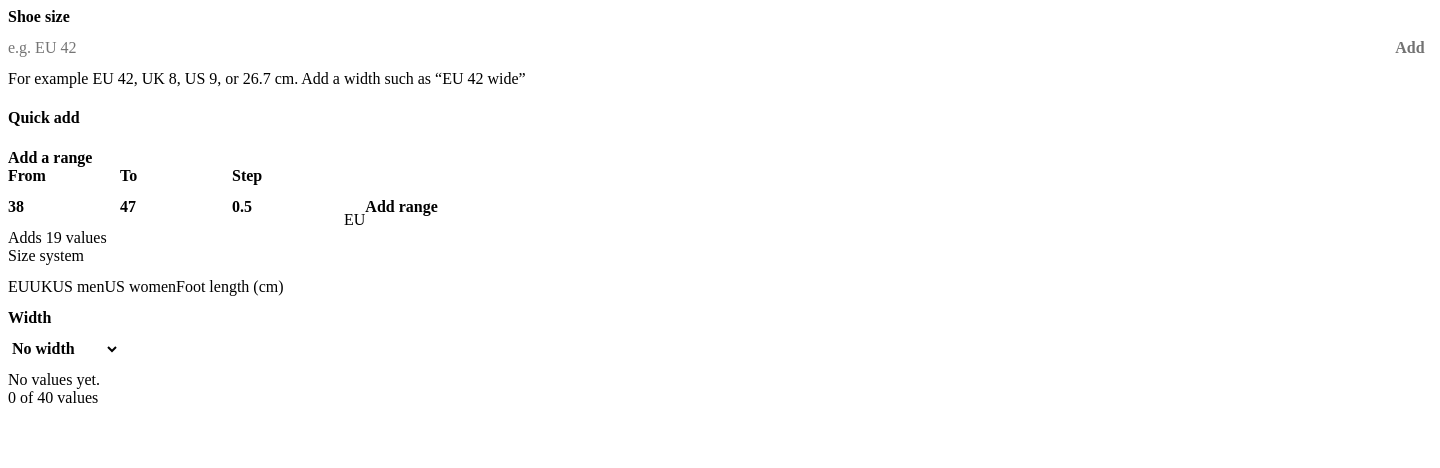
Test case: shoe › system switch: bare numbers are read in the chosen system, and converted sizes show as help
Later steps or results of the test are not shown.
Type "42" into the field labelled "Shoe size".
click(698, 48); type("42")  # box [8,26,1388,70]
Then press Enter
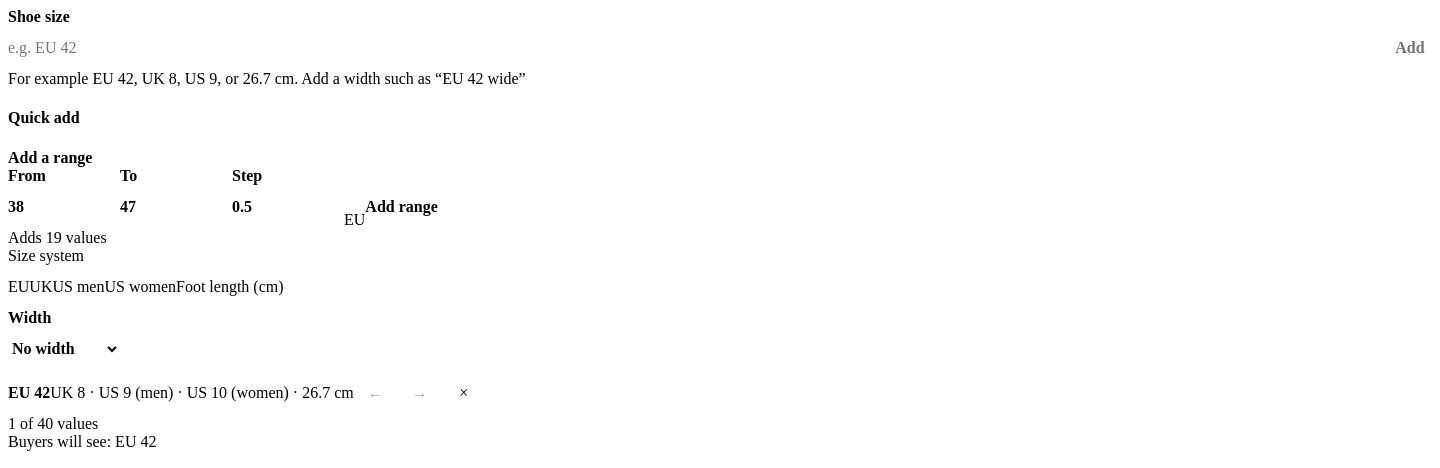
Now the list item with test id "scale-chip" shows "UK 8", box [50,384,354,400]
